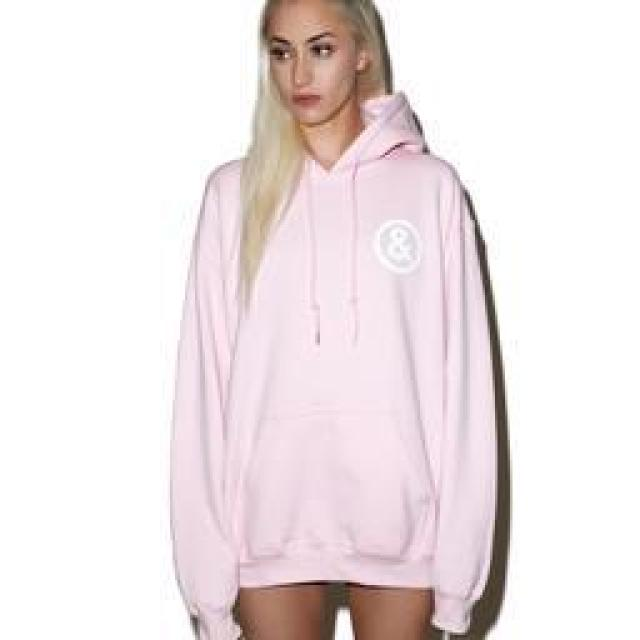sweater: (170, 92, 500, 640)
